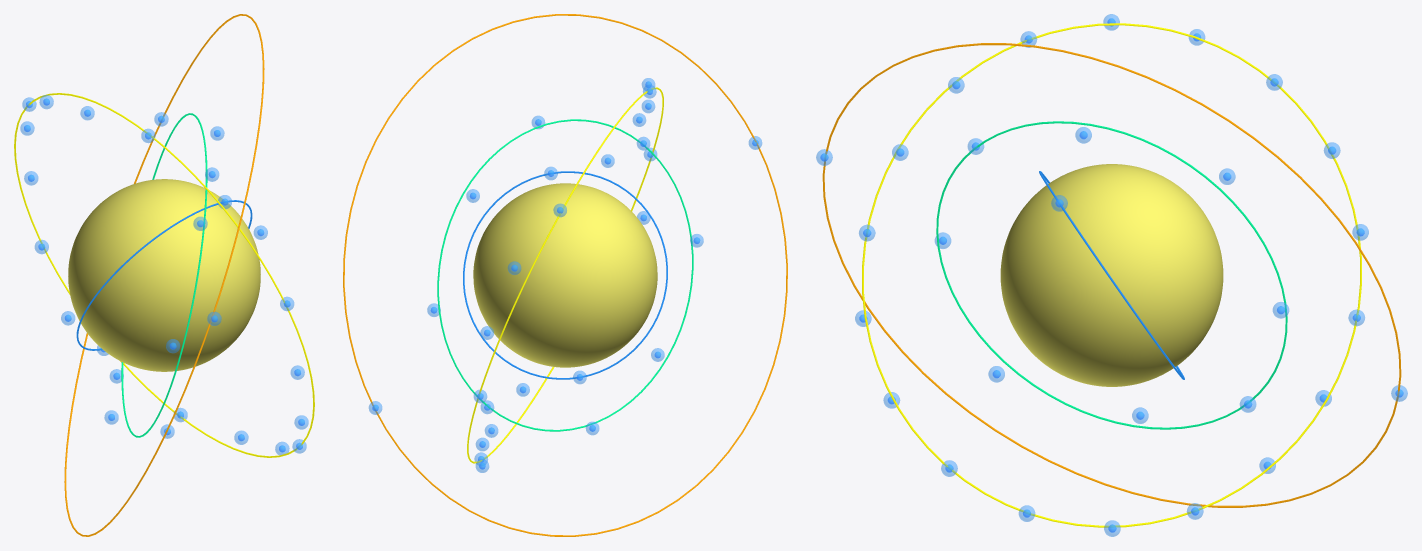
3 views of the same model, side by side, from view 1: azimuth 30°, elevation 25°; view 2: azimuth 150°, elevation 25°; view 3: azimuth 270°, elevation 25° (orthographic). The views are drawn at different scales.
Visible parts, largest first — view 1: Zn, object 61, object 24, object 7, object 2; view 2: Zn, object 61, object 7, object 24, object 2; view 3: Zn, object 61, object 24, object 7, object 2.
Boxes of the visible parts, <box> form: Zn: <box>68,179,260,371</box>; object 61: <box>64,14,264,536</box>; object 24: <box>14,93,314,457</box>; object 7: <box>121,113,207,437</box>; object 2: <box>76,200,252,350</box>; Zn: <box>473,183,657,367</box>; object 61: <box>343,14,787,536</box>; object 7: <box>437,119,693,431</box>; object 24: <box>467,87,663,463</box>; object 2: <box>463,171,667,379</box>; Zn: <box>1000,164,1223,386</box>; object 61: <box>822,43,1401,507</box>; object 24: <box>862,23,1361,527</box>; object 7: <box>936,121,1287,429</box>; object 2: <box>1039,171,1184,379</box>.
Bounding box in the file's own units: 3.25 × 5.62 × 5.63.
